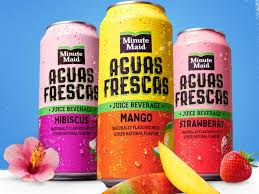can: (31, 1, 238, 186)
